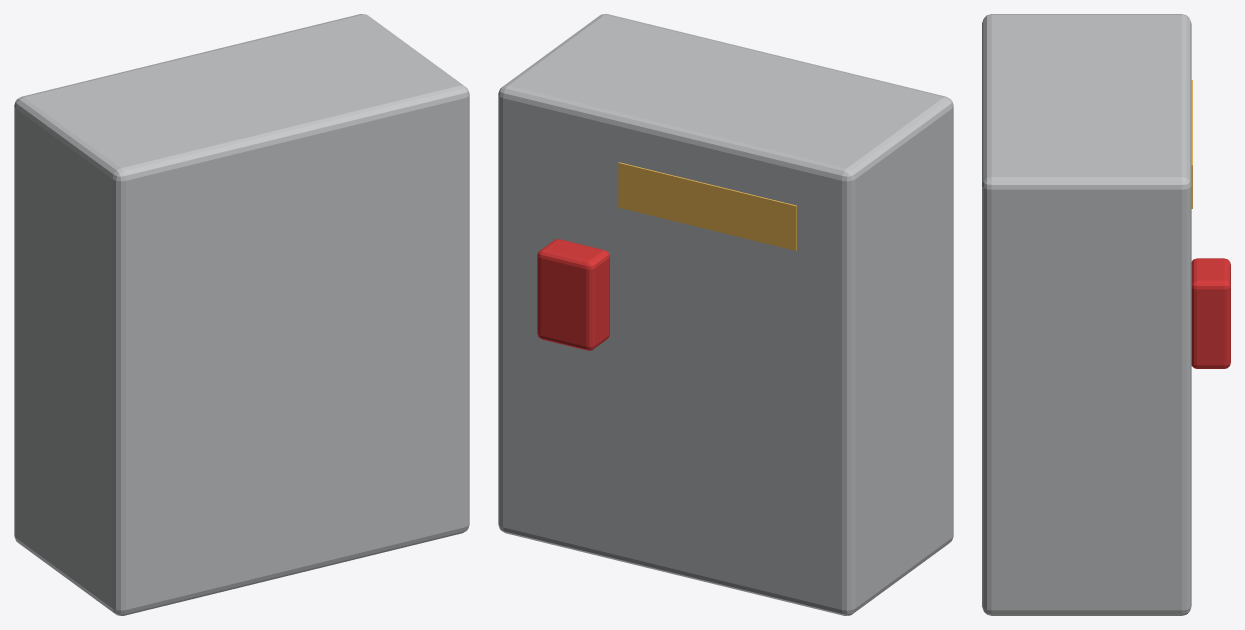
File: generic-combiner-2s.glb
3 renders of one model, left to right at view 1: azimuth 30°, elevation 25°; view 2: azimuth 150°, elevation 25°; view 3: azimuth 270°, elevation 25°, orthographic. The views are drawn at different scales.
Visible parts, largest first — view 1: body; view 2: body, label, handle; view 3: body, handle.
Boxes of the visible parts, bbox=[...] form: body: bbox=[14, 14, 469, 615]; body: bbox=[498, 14, 953, 615]; label: bbox=[618, 162, 796, 250]; handle: bbox=[537, 239, 609, 350]; body: bbox=[982, 14, 1191, 615]; handle: bbox=[1191, 258, 1230, 368].
Bounding box in the file's own units: 0.25 × 0.318 × 0.1545.
